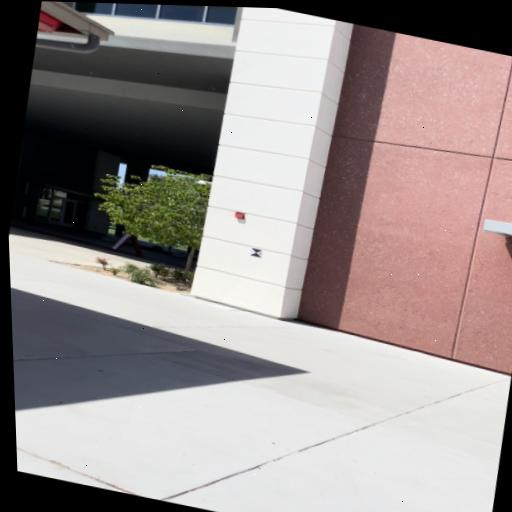target2: (249, 247, 263, 258)
